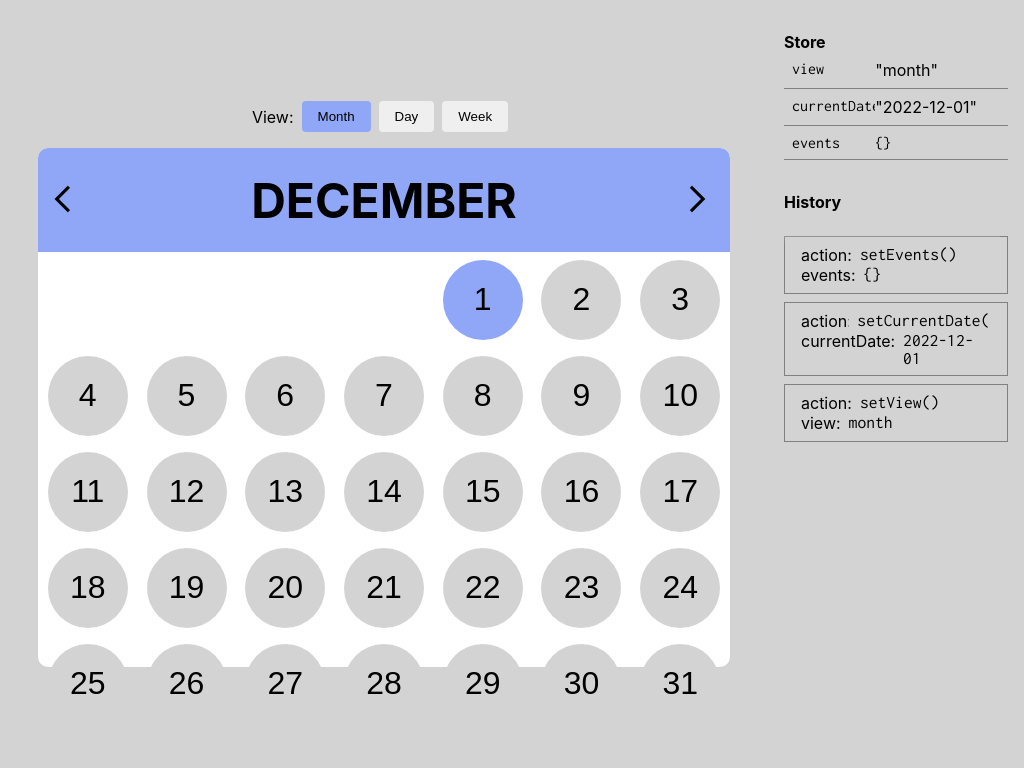
Scenario: mobx/CalendarWrapper › clicking 'week' option changes to week view
Click the button "Week".
click(475, 117)  # box x1=442 y1=101 x2=508 y2=132
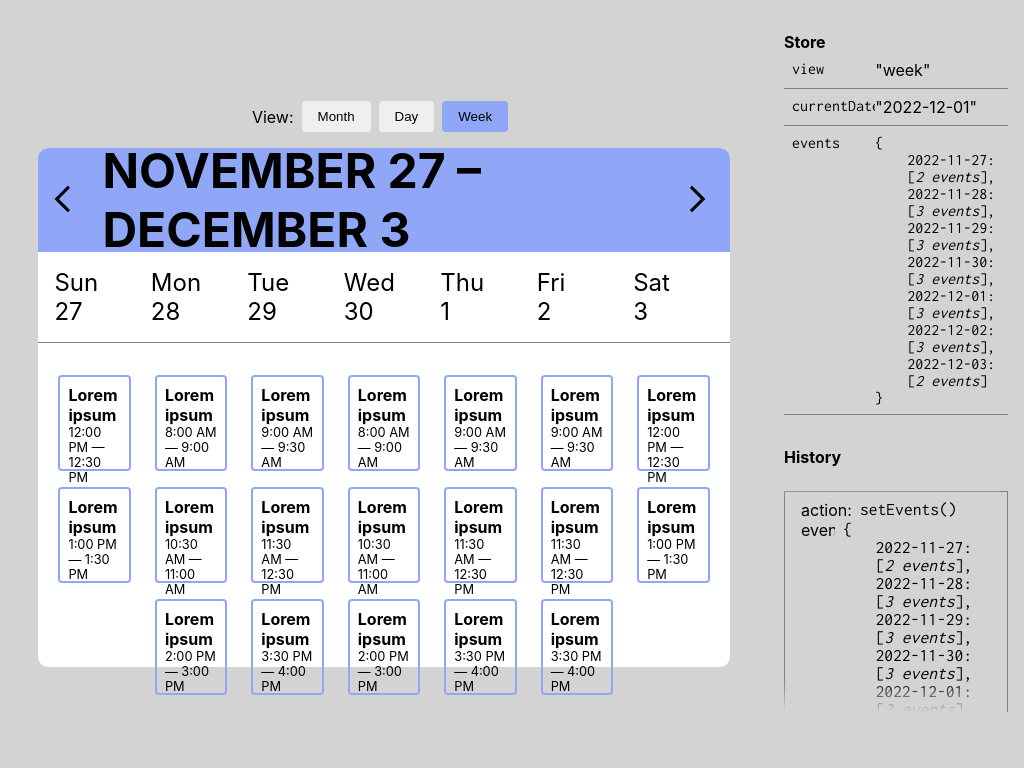
Result: the heading "NOVEMBER 27 – DECEMBER 3" is shown at x1=102 y1=141 x2=481 y2=259
